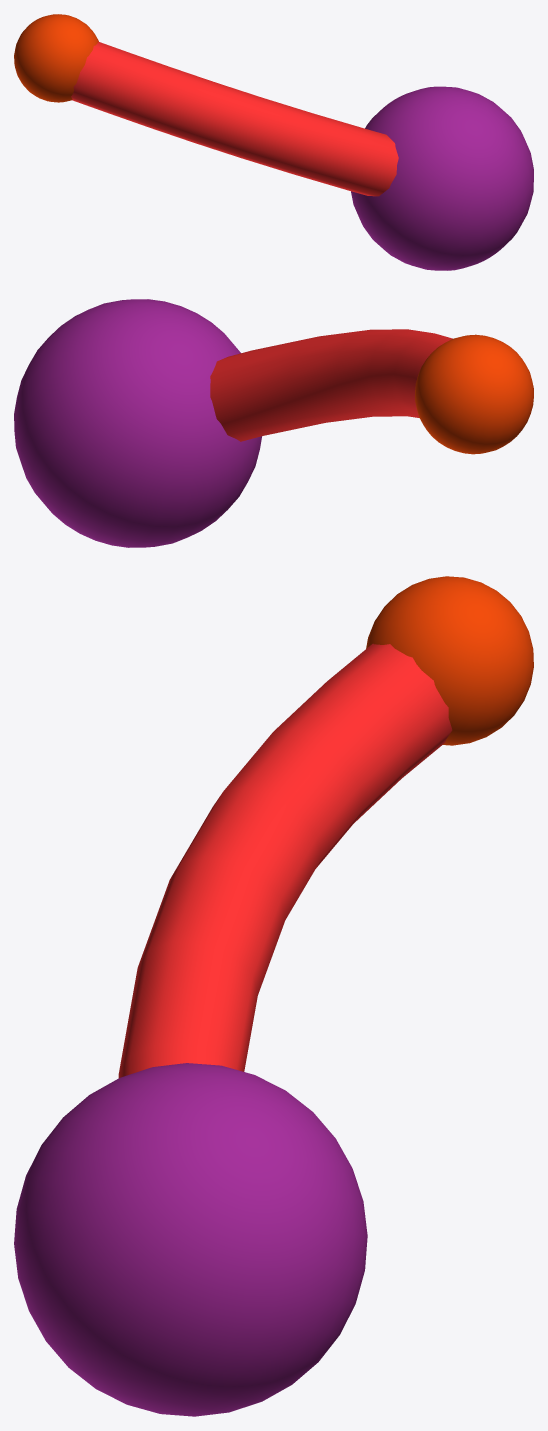
File: SM_PlayerArmRight.FBX
3 renders of one model, top to bottom at view 1: azimuth 30°, elevation 25°; view 2: azimuth 150°, elevation 25°; view 3: azimuth 270°, elevation 25°, orthographic. The views are drawn at different scales.
Parts seen in each view (by area): view 1: Sphere022; view 2: Sphere022; view 3: Sphere022.
Boxes of the visible parts, x1,y1,x2,y2 form: Sphere022: (14,14,533,270); Sphere022: (14,299,533,547); Sphere022: (14,576,533,1416).
Size of the model in its own units: 85.29 by 50.98 by 46.21.
